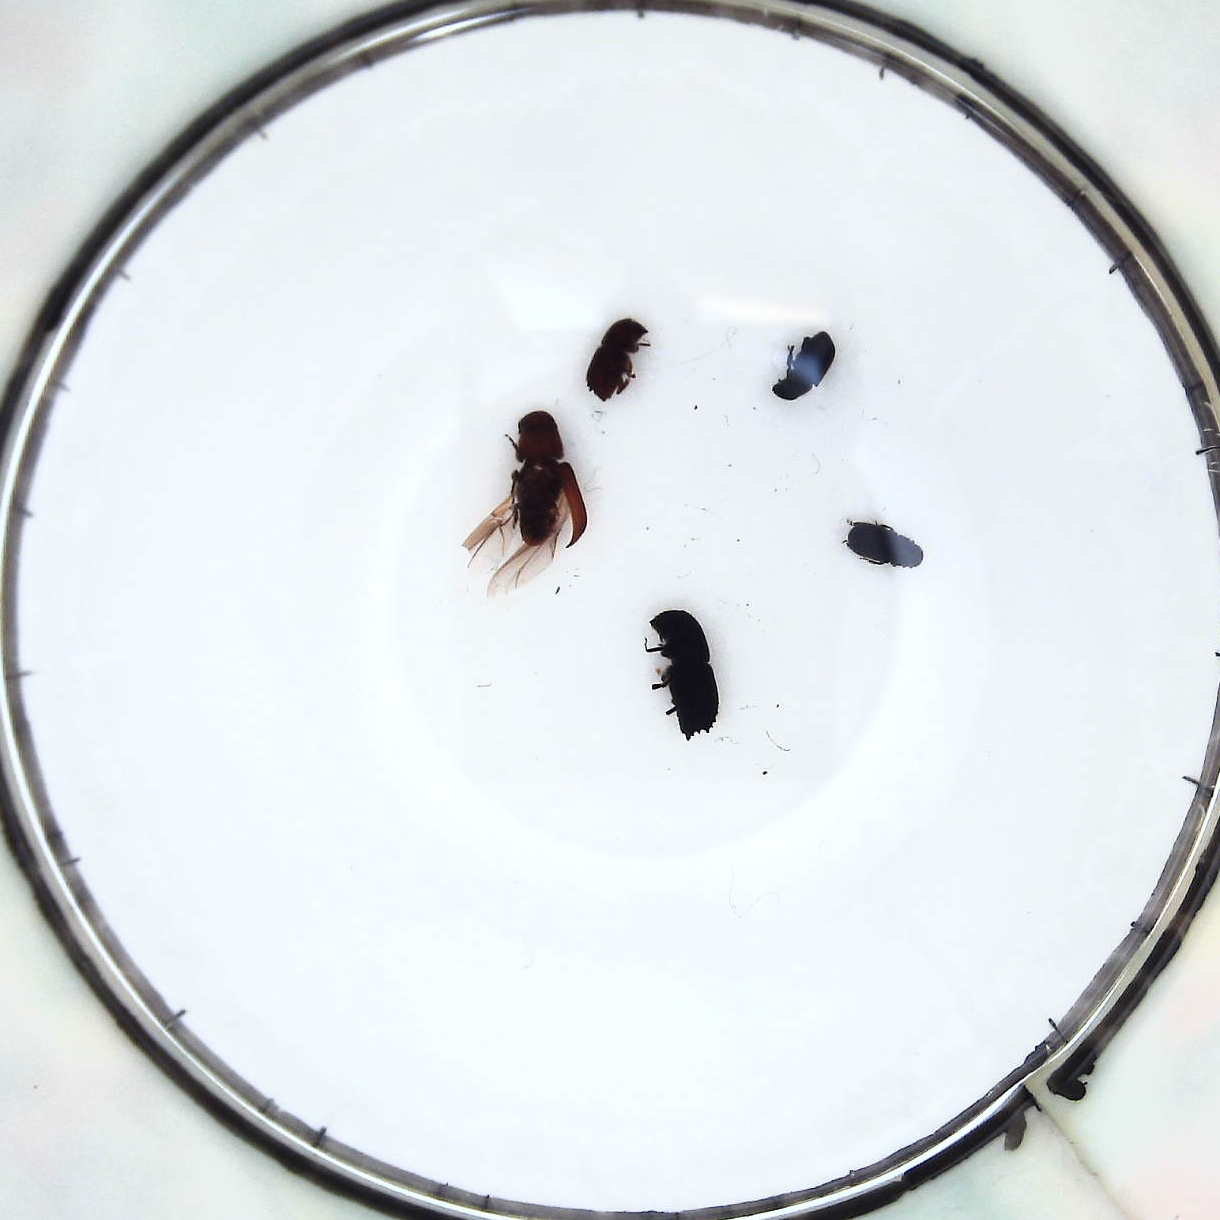Boerner: (648, 611, 718, 737)
Leconte: (475, 408, 589, 576)
Linnaeus: (592, 315, 644, 403)
armandi: (836, 511, 926, 569), (776, 325, 838, 403)
